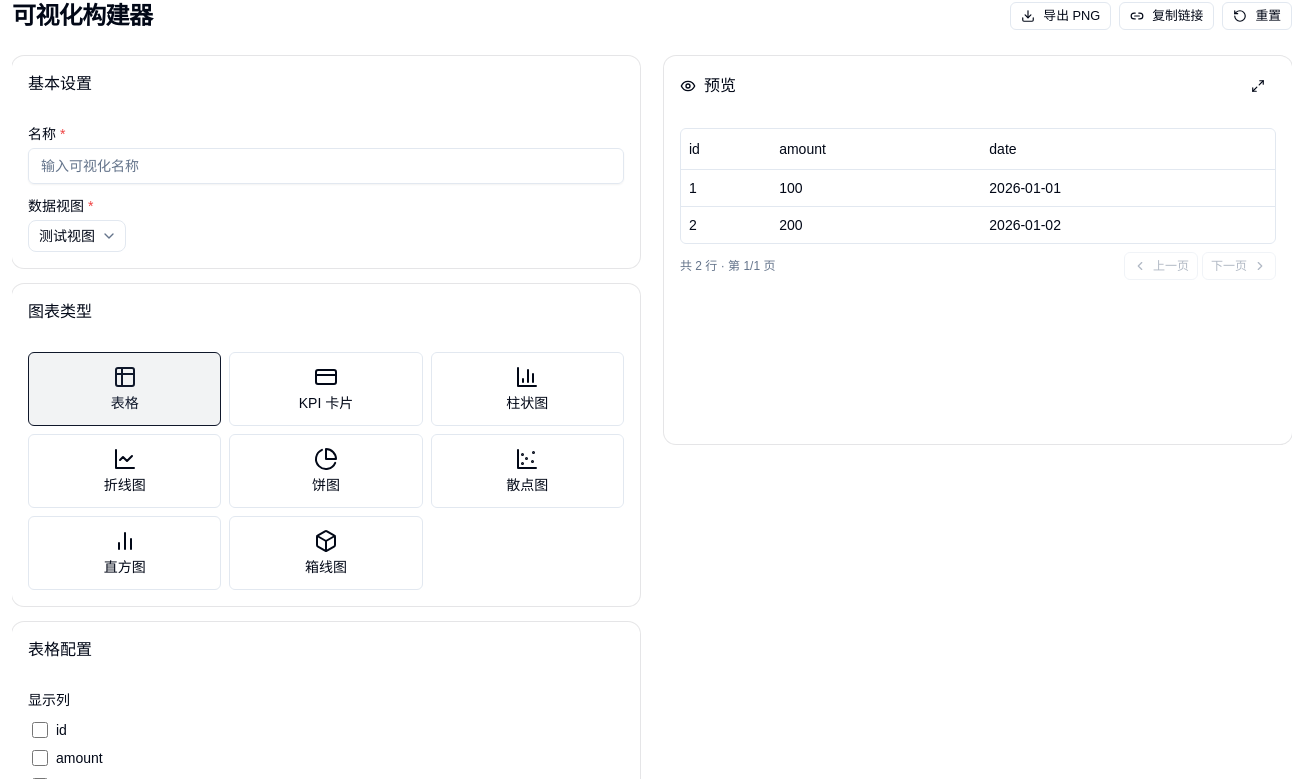
it: VisualizationBuilderPage › shows the pie aggregation selector when 饼图 is selected
The image size is (1304, 779).
What coordinates should you click on to do the following:
click the button "饼图"
I would click on:
 (326, 471)
Its box is [229,434,423,508].
(page scrolled)
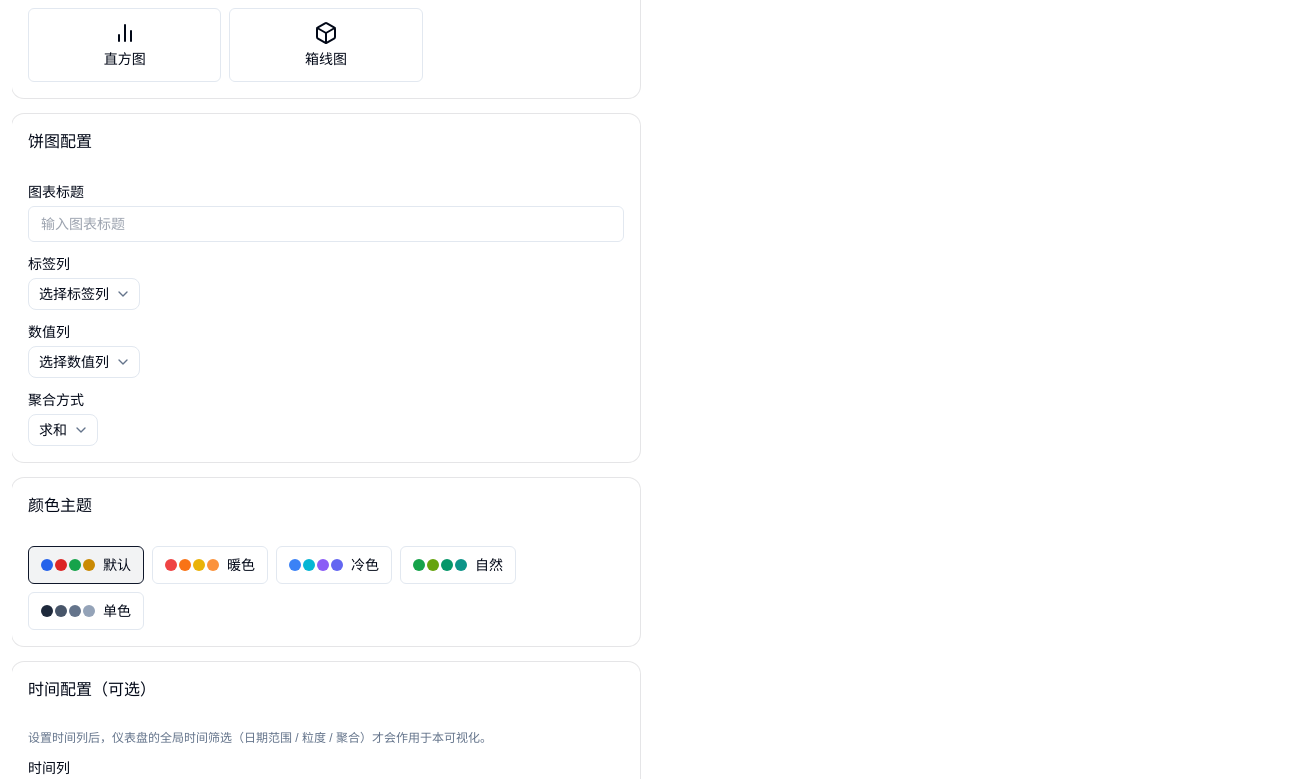
Check: the text "饼图配置" is shown, box [28,133,92,150]
Check: the text "聚合方式" is shown, box [28,392,84,408]
